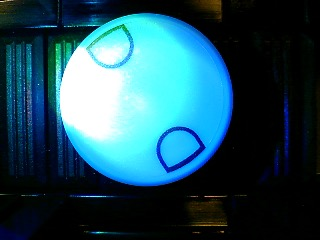MIPO2: (58, 12, 234, 186)
